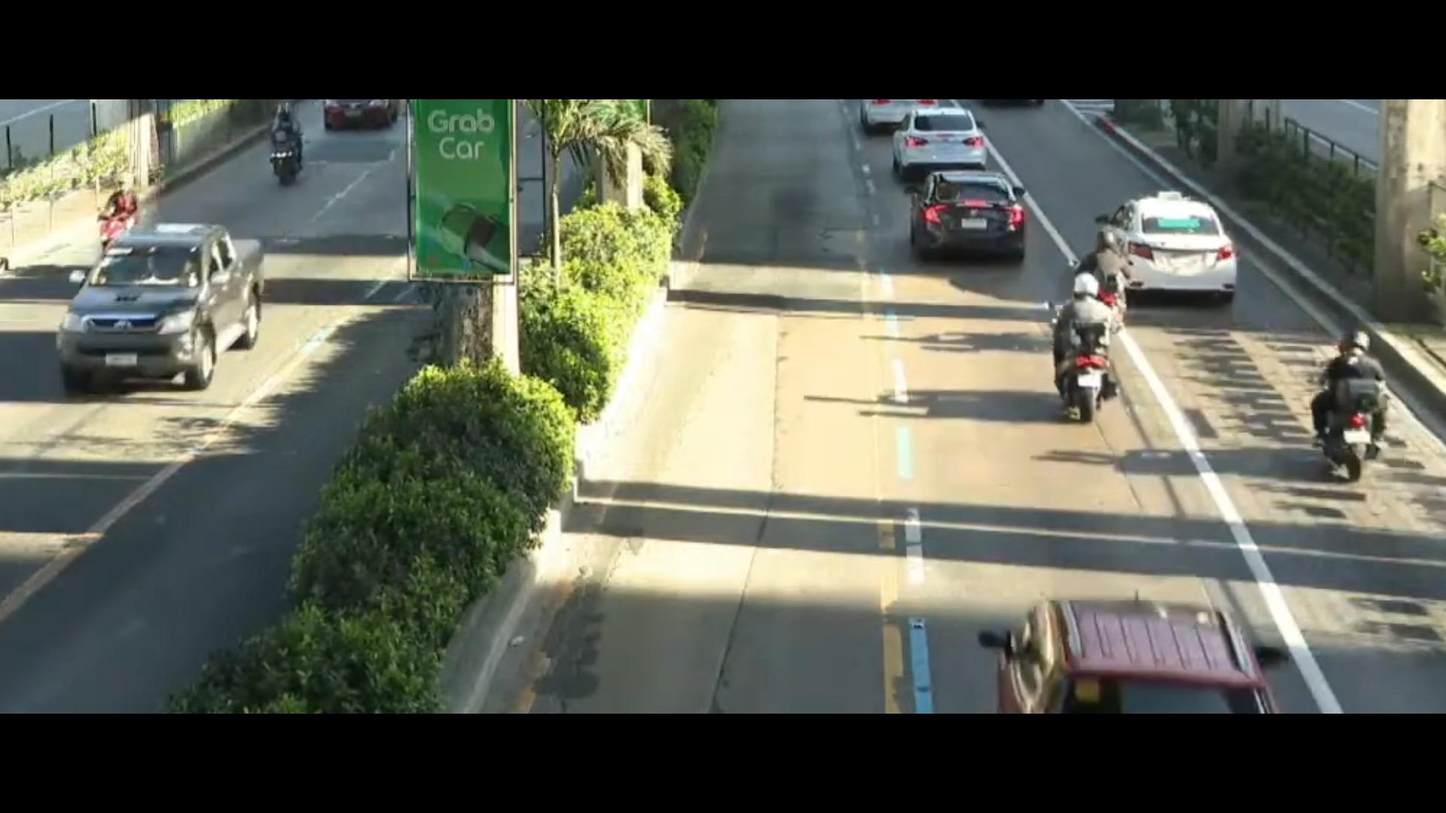Motorcycle: (1281, 315, 1428, 499), (1015, 266, 1145, 443), (269, 104, 313, 185), (97, 172, 157, 224)
Pickup: (22, 224, 315, 407)
SUV: (981, 582, 1292, 720)
Sedan: (1082, 194, 1271, 297), (897, 168, 1047, 265), (894, 111, 993, 167)
